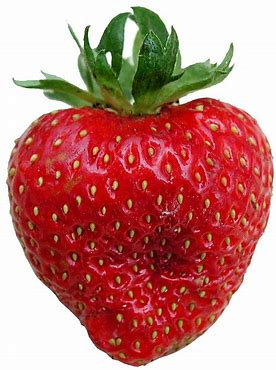strawberry: (4, 18, 276, 367)
